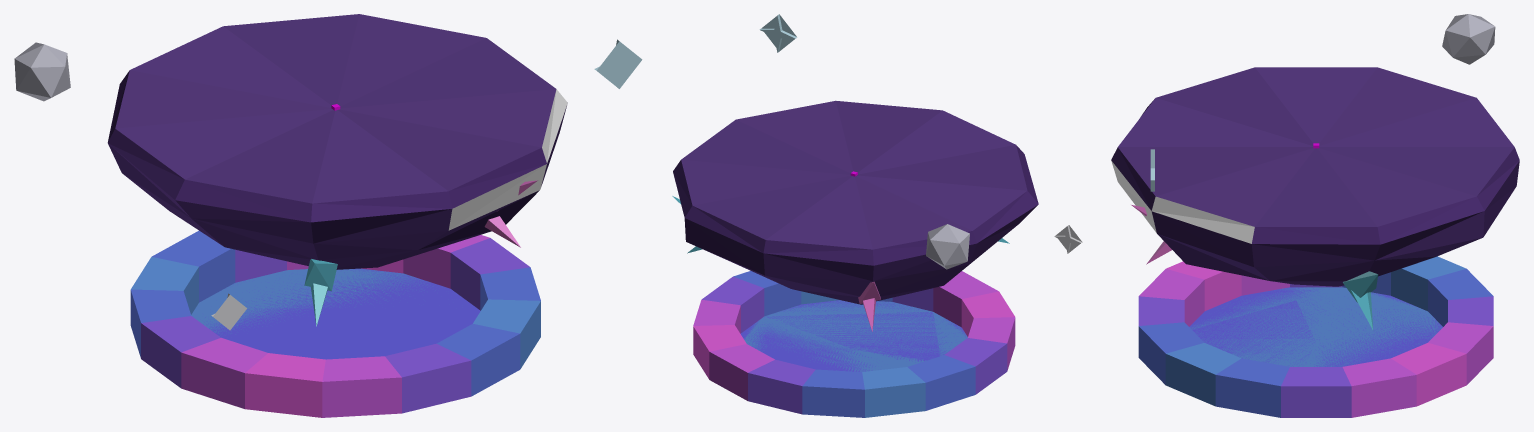
The model's file is Platform_GalaxyShiba.fbx.
The picture shows the model from 3 angles, left to right: view 1: azimuth 30°, elevation 25°; view 2: azimuth 150°, elevation 25°; view 3: azimuth 270°, elevation 25°; orthographic projection. The views are drawn at different scales.
Visible parts, largest first — view 1: Body; view 2: Body; view 3: Body.
Boxes of the visible parts, box(x1,y1,x2,y2) form: Body: box(14, 14, 642, 417); Body: box(672, 14, 1082, 417); Body: box(1111, 14, 1519, 417).
Bounding box in the file's own units: 7.74 × 5.2 × 7.
